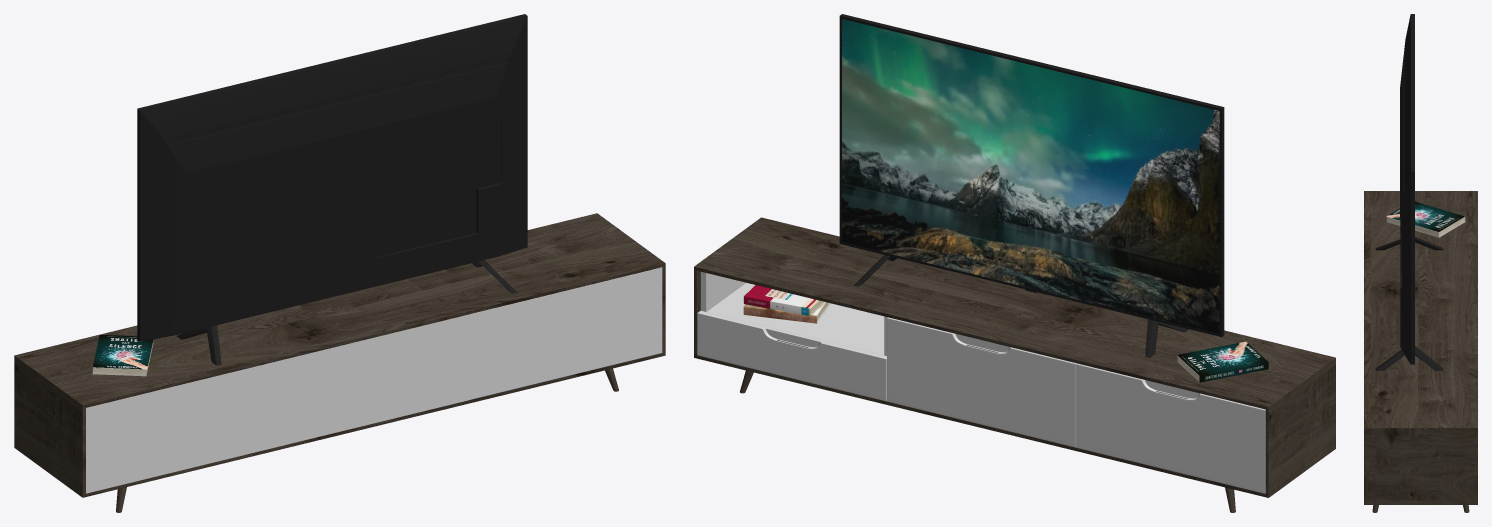
The model's file is RoomTV-transformed.glb.
3 views of the same model, side by side, from view 1: azimuth 30°, elevation 25°; view 2: azimuth 150°, elevation 25°; view 3: azimuth 270°, elevation 25° (orthographic). The views are drawn at different scales.
Parts seen in each view (by area): view 1: TV, Cabinet1, Cabinet_cover, book_cover.007; view 2: TV, Cabinet1, Cabinet_cover, book_cover.007, book_cover.006, book_cover.005; view 3: Cabinet_cover, TV, book_cover.007, book_cover.005.
Part boxes in pixels (<box>): TV: <box>137,14,527,365</box>; Cabinet1: <box>86,267,662,493</box>; Cabinet_cover: <box>14,213,665,512</box>; book_cover.007: <box>93,335,153,369</box>; TV: <box>839,14,1224,357</box>; Cabinet1: <box>697,271,1265,493</box>; Cabinet_cover: <box>694,217,1335,512</box>; book_cover.007: <box>1177,341,1268,382</box>; book_cover.006: <box>744,285,818,316</box>; book_cover.005: <box>743,297,1199,382</box>; Cabinet_cover: <box>1364,191,1477,512</box>; TV: <box>1375,14,1443,370</box>; book_cover.007: <box>1386,201,1464,231</box>; book_cover.005: <box>1386,216,1465,237</box>.
Bounding box in the file's own units: 1.09 × 0.672 × 0.2214.
8 materials, 6 textured.
